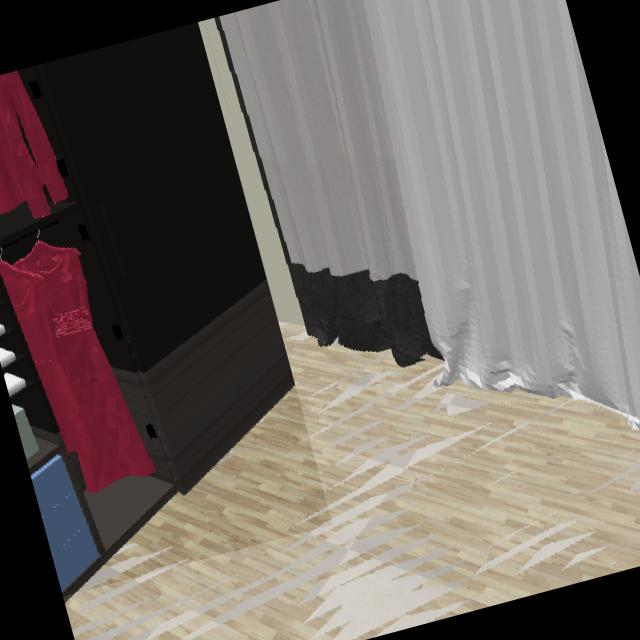wardrobe: (0, 22, 294, 596)
